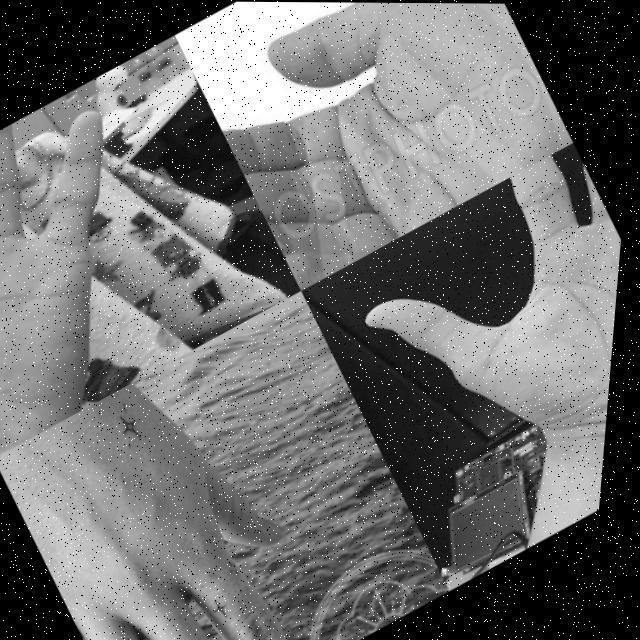no-gloves: (323, 139, 631, 536), (185, 2, 584, 292), (0, 346, 374, 640), (0, 78, 240, 458)
